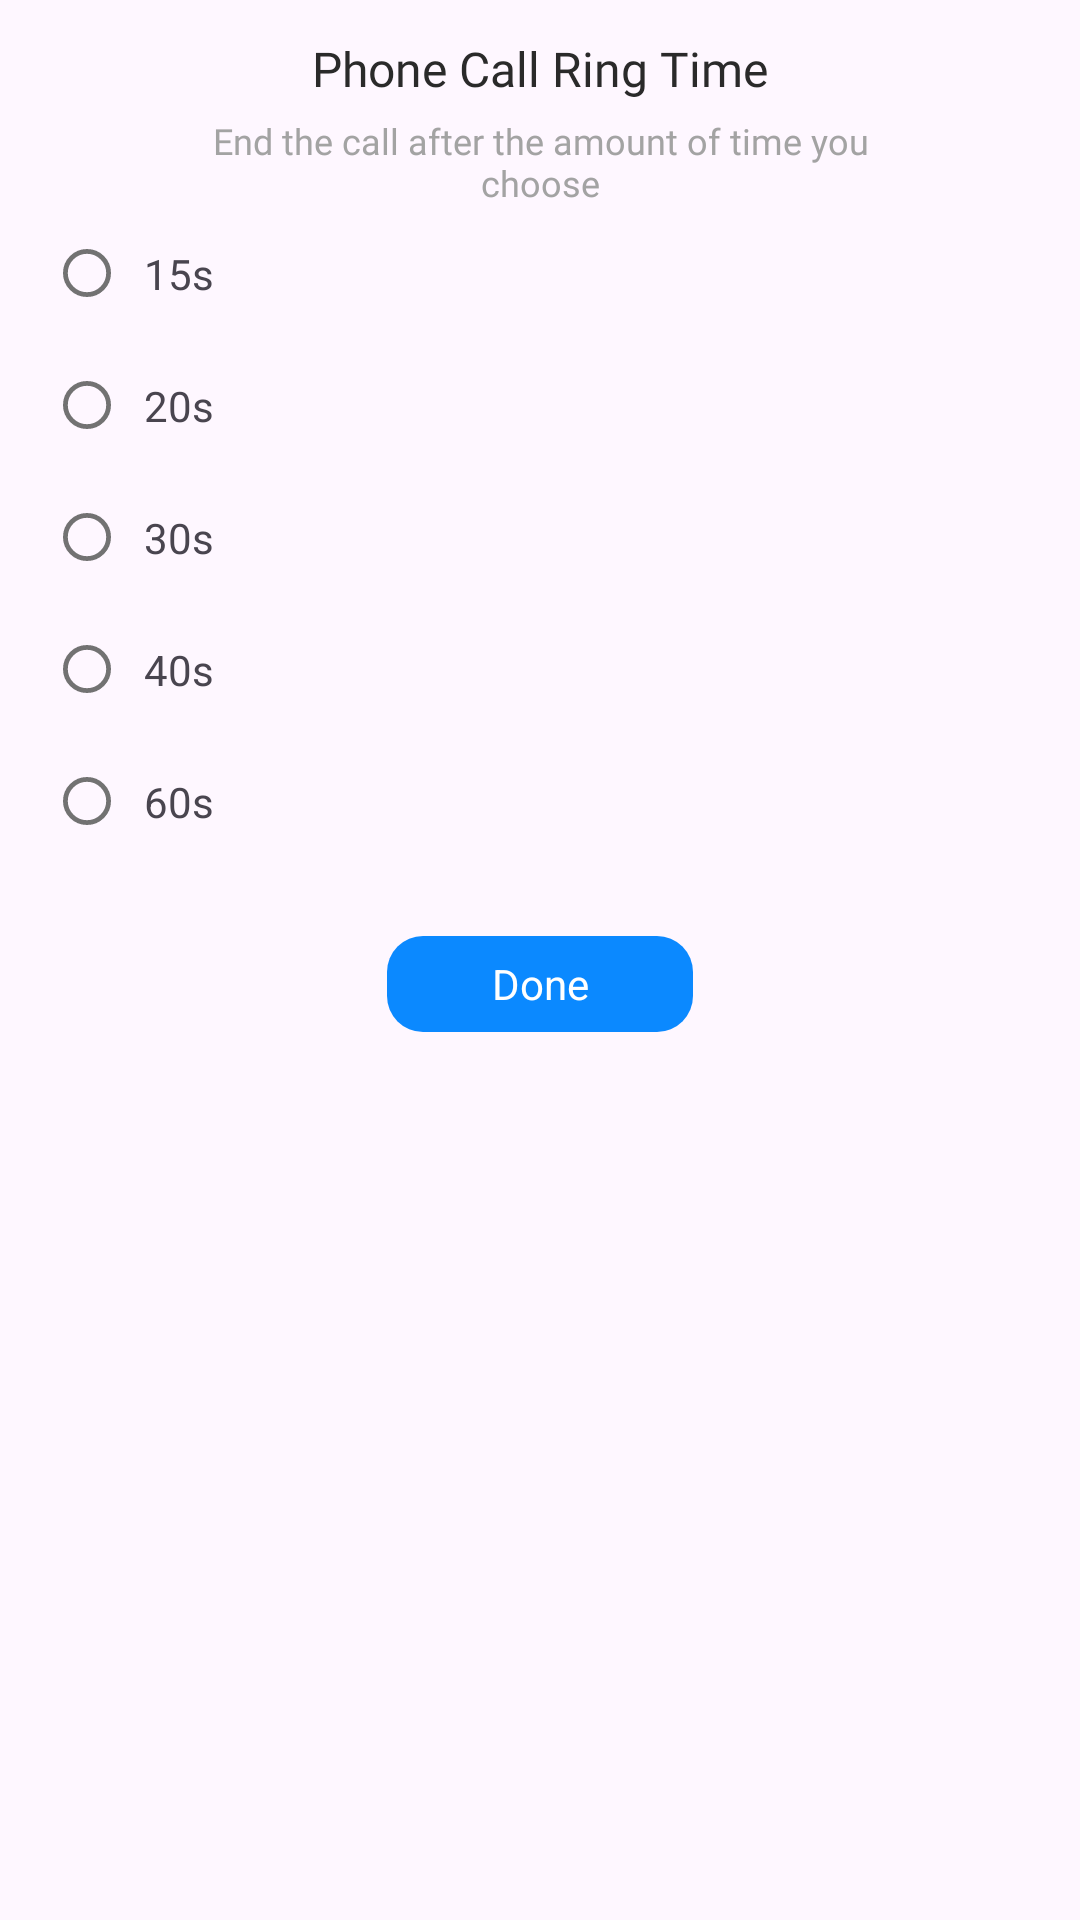

Where icons sit on this 1080px×1920px app screen, as bbox=[x1, y1, x2, y2]:
radio unchecked: bbox=[63, 249, 111, 297], bbox=[63, 381, 111, 429], bbox=[63, 513, 111, 561], bbox=[63, 645, 111, 693], bbox=[63, 777, 111, 825]
